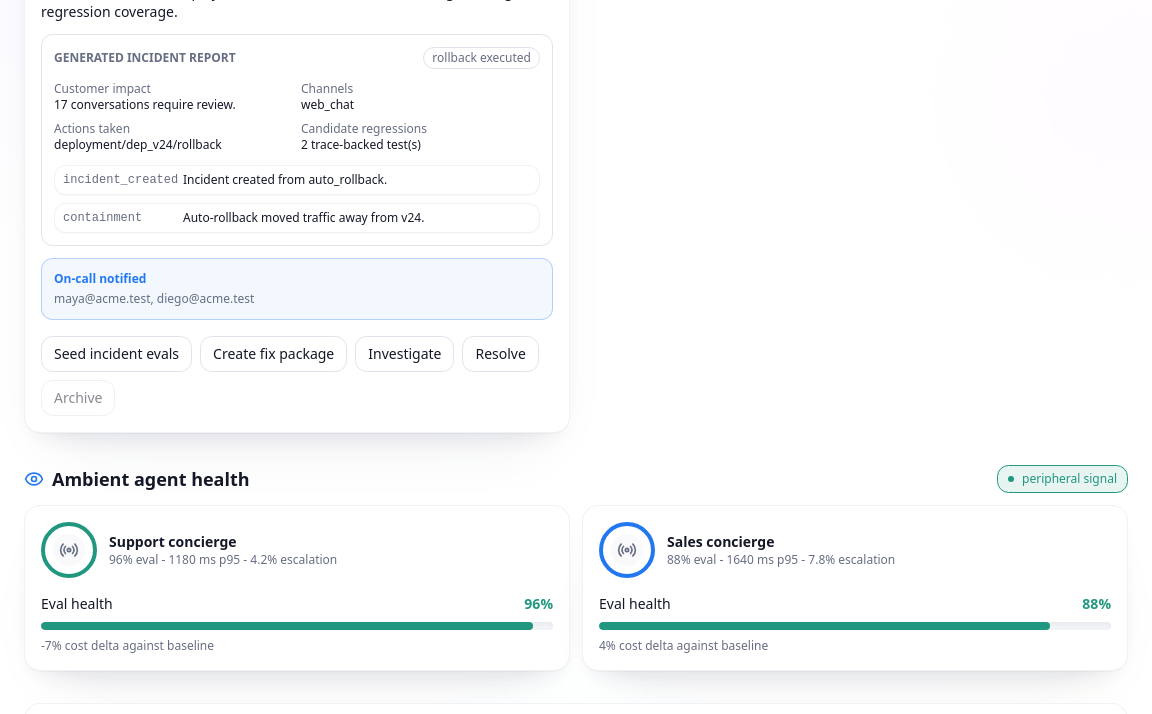
Test: ObservatoryScreen › moves incidents through investigate, resolve, and archive actions
The width and height of the screenshot is (1152, 714).
(page scrolled)
Click the button with test id "incident-investigate-inc_rollback_schema": [405, 354] box 355,336 -> 454,372
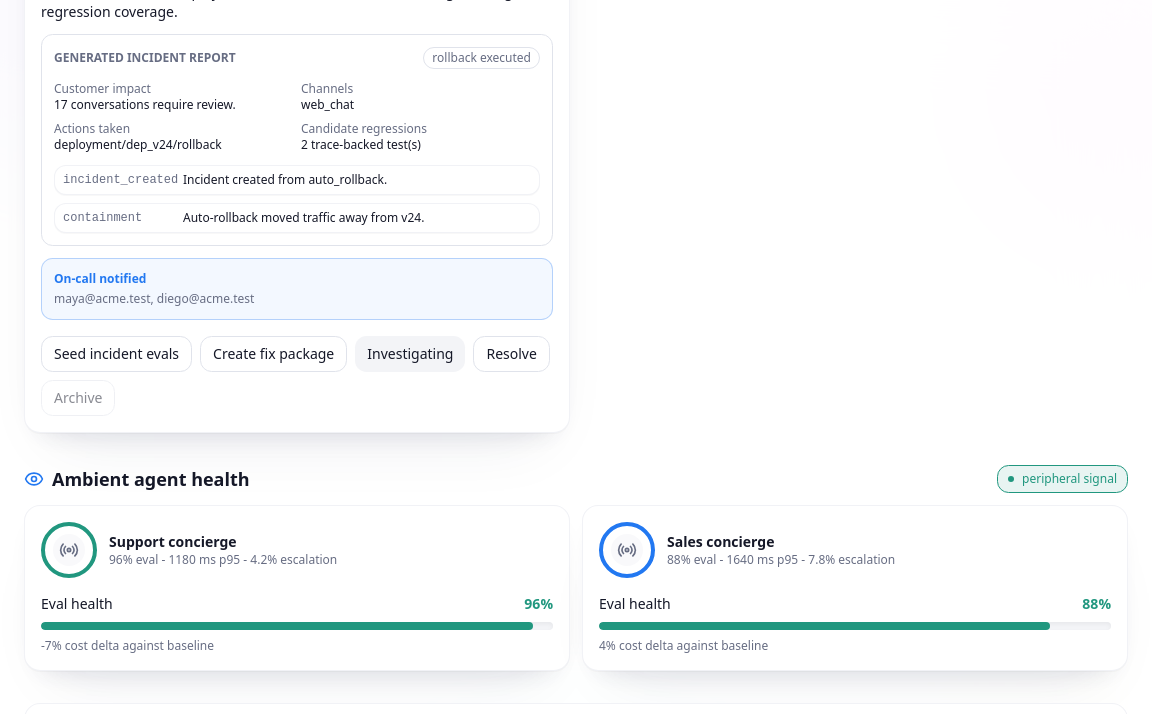
Click the button with test id "incident-resolve-inc_rollback_schema": [512, 354] box 473,336 -> 550,372
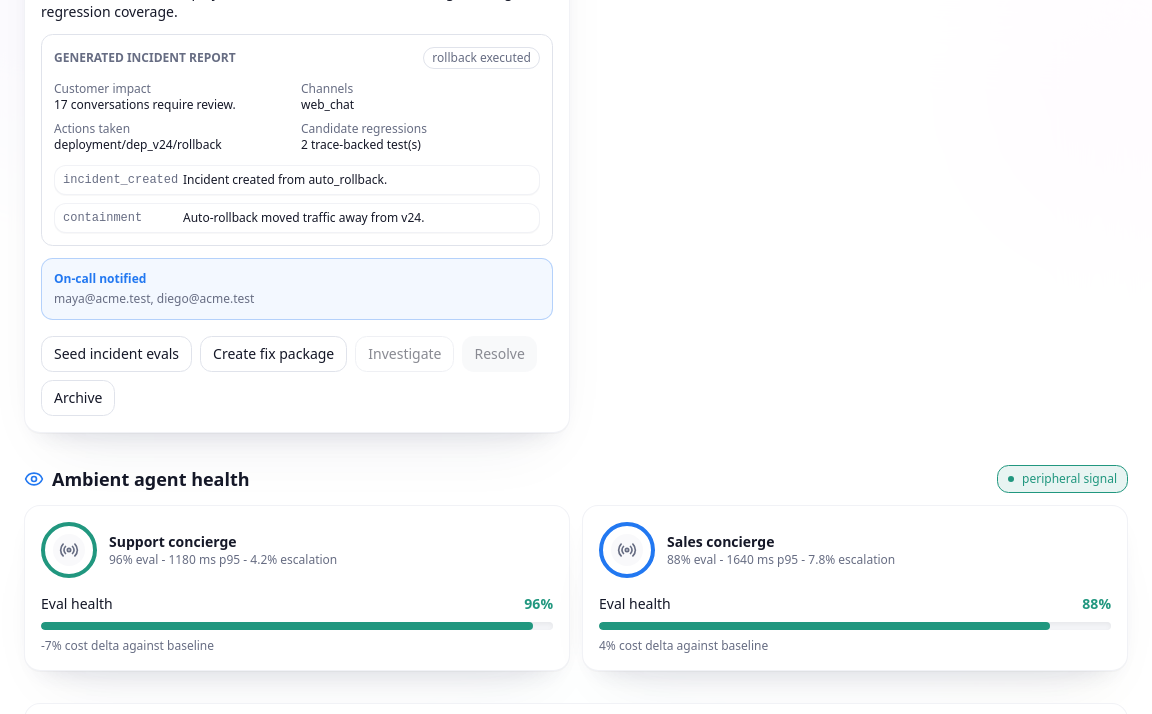
Click the button with test id "incident-archive-inc_rollback_schema": [78, 398] box 41,380 -> 116,416
(page scrolled)
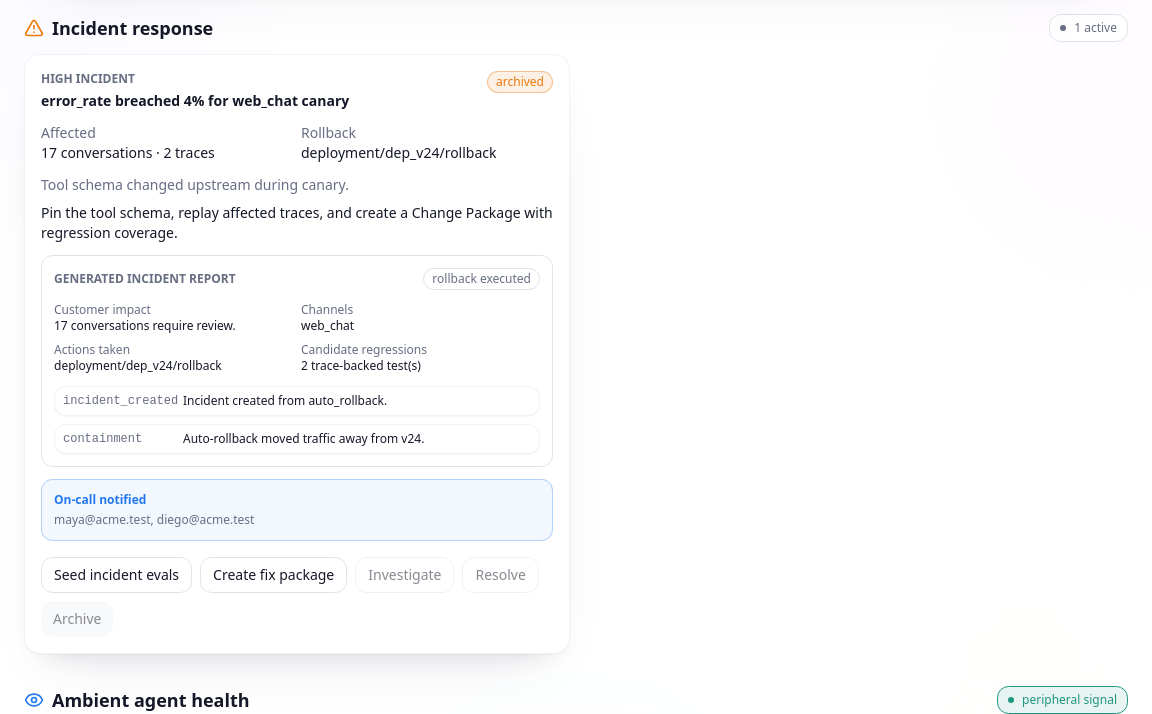
Check: the element with test id "incident-card-inc_rollback_schema" shows "archived", box 496,73 -> 544,90
